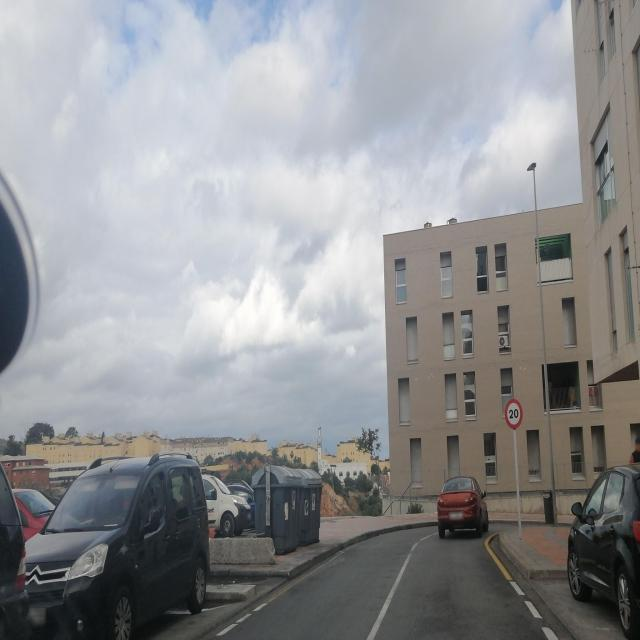car: (22, 452, 211, 639), (566, 463, 640, 640), (0, 442, 28, 638), (200, 474, 255, 538), (437, 475, 489, 538), (10, 487, 56, 542)
